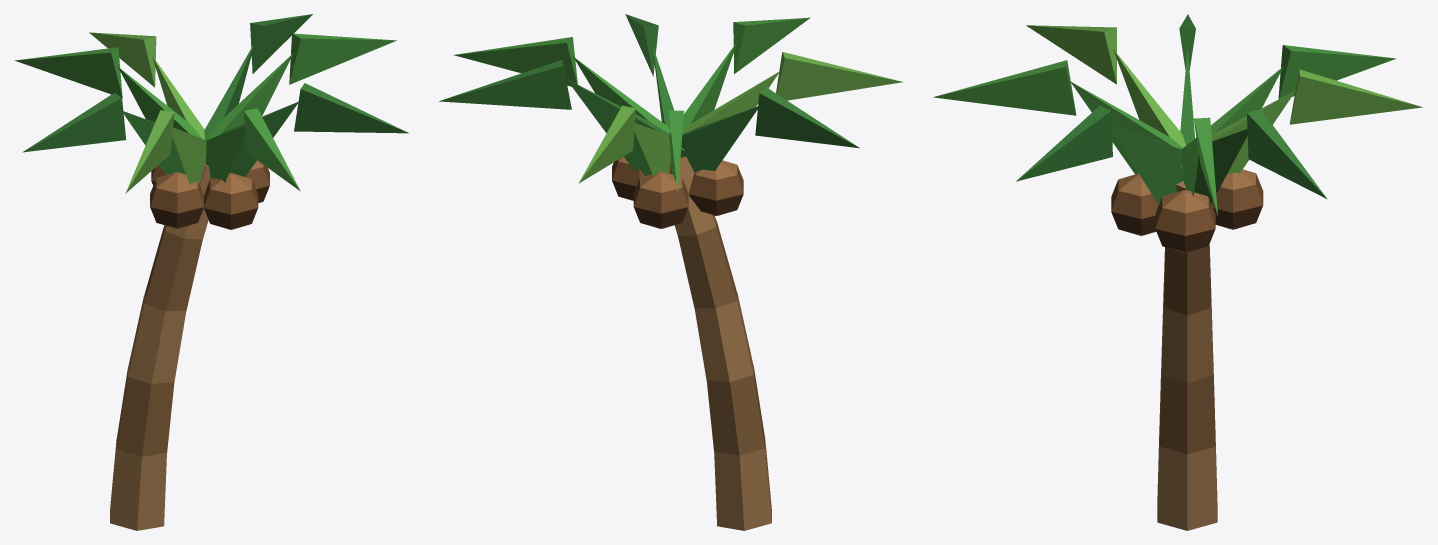
File: palmtree-4.glb
3 renders of one model, left to right at view 1: azimuth 30°, elevation 25°; view 2: azimuth 150°, elevation 25°; view 3: azimuth 270°, elevation 25°, orthographic. The views are drawn at different scales.
Parts seen in each view (by area): view 1: palmtree-4; view 2: palmtree-4; view 3: palmtree-4.
Boxes of the visible parts, x1,y1,x2,y2 form: palmtree-4: (15,14,408,530); palmtree-4: (439,14,903,530); palmtree-4: (933,14,1422,530).
Bounding box in the file's own units: 0.6448 × 0.6959 × 0.6345.
Materials: 1 (1 with a texture image).
